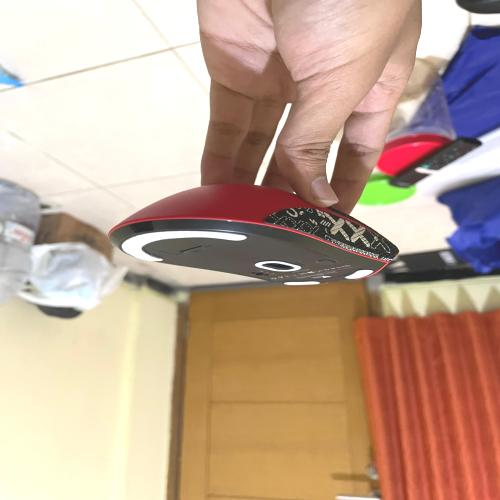mouse: (90, 173, 414, 305)
